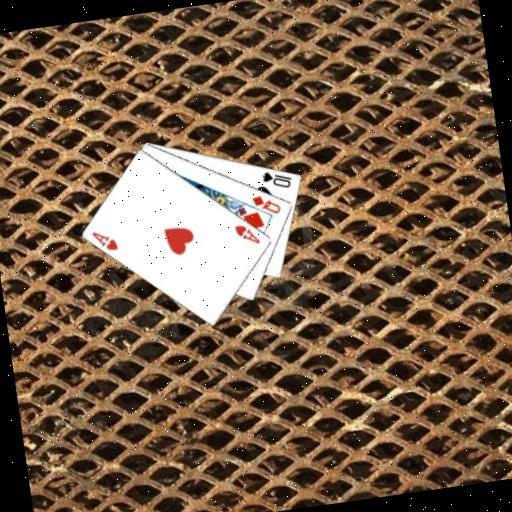10S: (259, 165, 295, 193)
AH: (89, 226, 121, 255), (232, 219, 263, 248)
QD: (249, 190, 284, 219)
